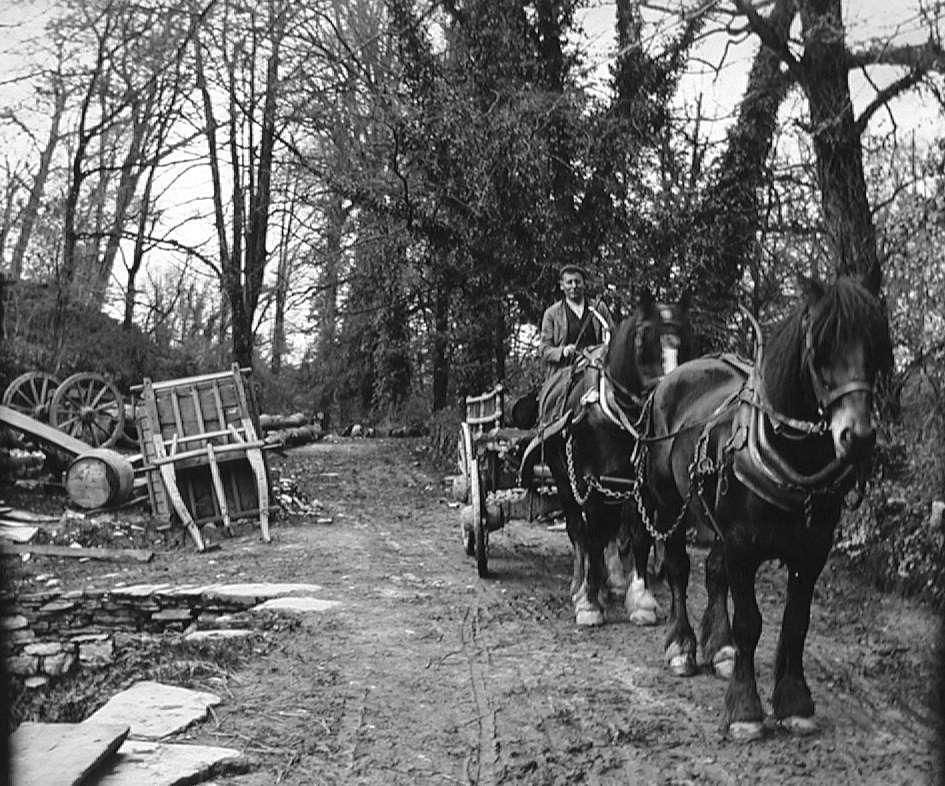horse: (637, 273, 896, 739), (536, 279, 701, 632)
